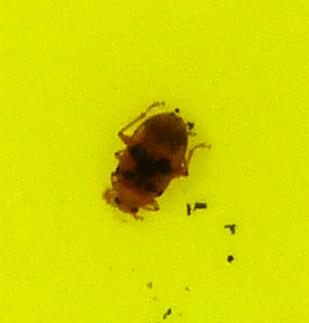Coleoptera: (100, 100, 209, 223)
